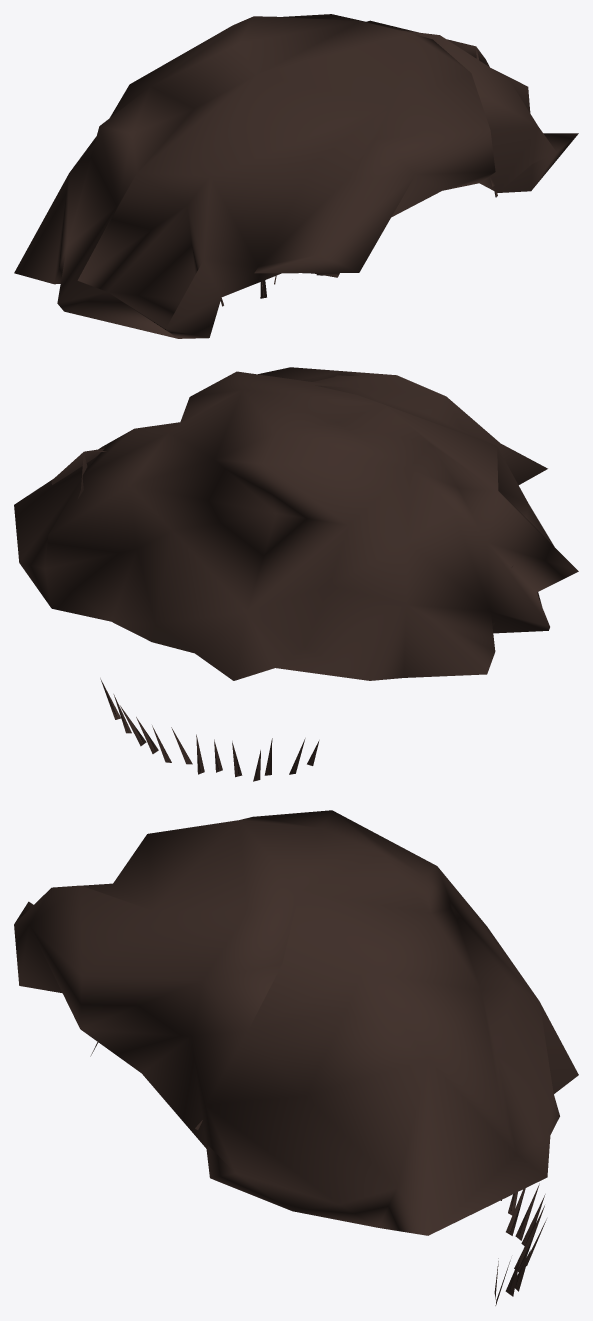
The model's file is waves.glb.
The picture shows the model from 3 angles, top to bottom: view 1: azimuth 30°, elevation 25°; view 2: azimuth 150°, elevation 25°; view 3: azimuth 270°, elevation 25°; orthographic projection. The views are drawn at different scales.
Visible parts, largest first — view 1: Hair; view 2: Hair, HairPulledRootStrands; view 3: Hair, HairPulledRootStrands.
Part boxes in pixels (x1,y1,x2,y2): Hair: (14,14,578,338); Hair: (14,367,578,680); HairPulledRootStrands: (100,678,319,781); Hair: (14,810,578,1235); HairPulledRootStrands: (195,1120,546,1305).
Size of the model in its own units: 0.6867 by 0.4147 by 0.5207.
